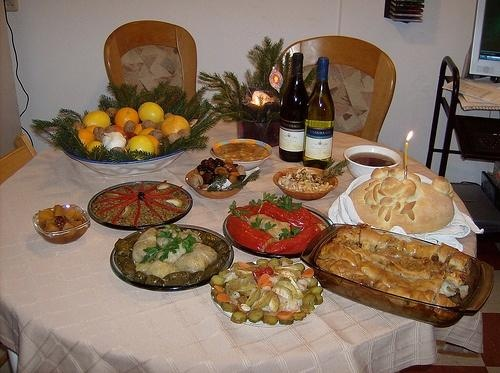bottle: (304, 55, 338, 168), (280, 52, 305, 166)
chair: (271, 34, 397, 154), (99, 18, 209, 127)
diningtable: (3, 109, 480, 369)
